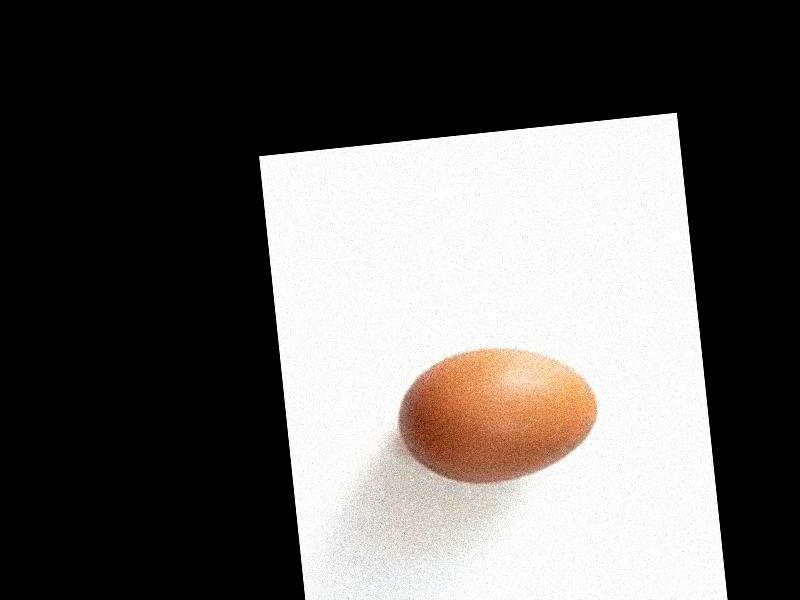Eggs: (393, 340, 605, 490)
